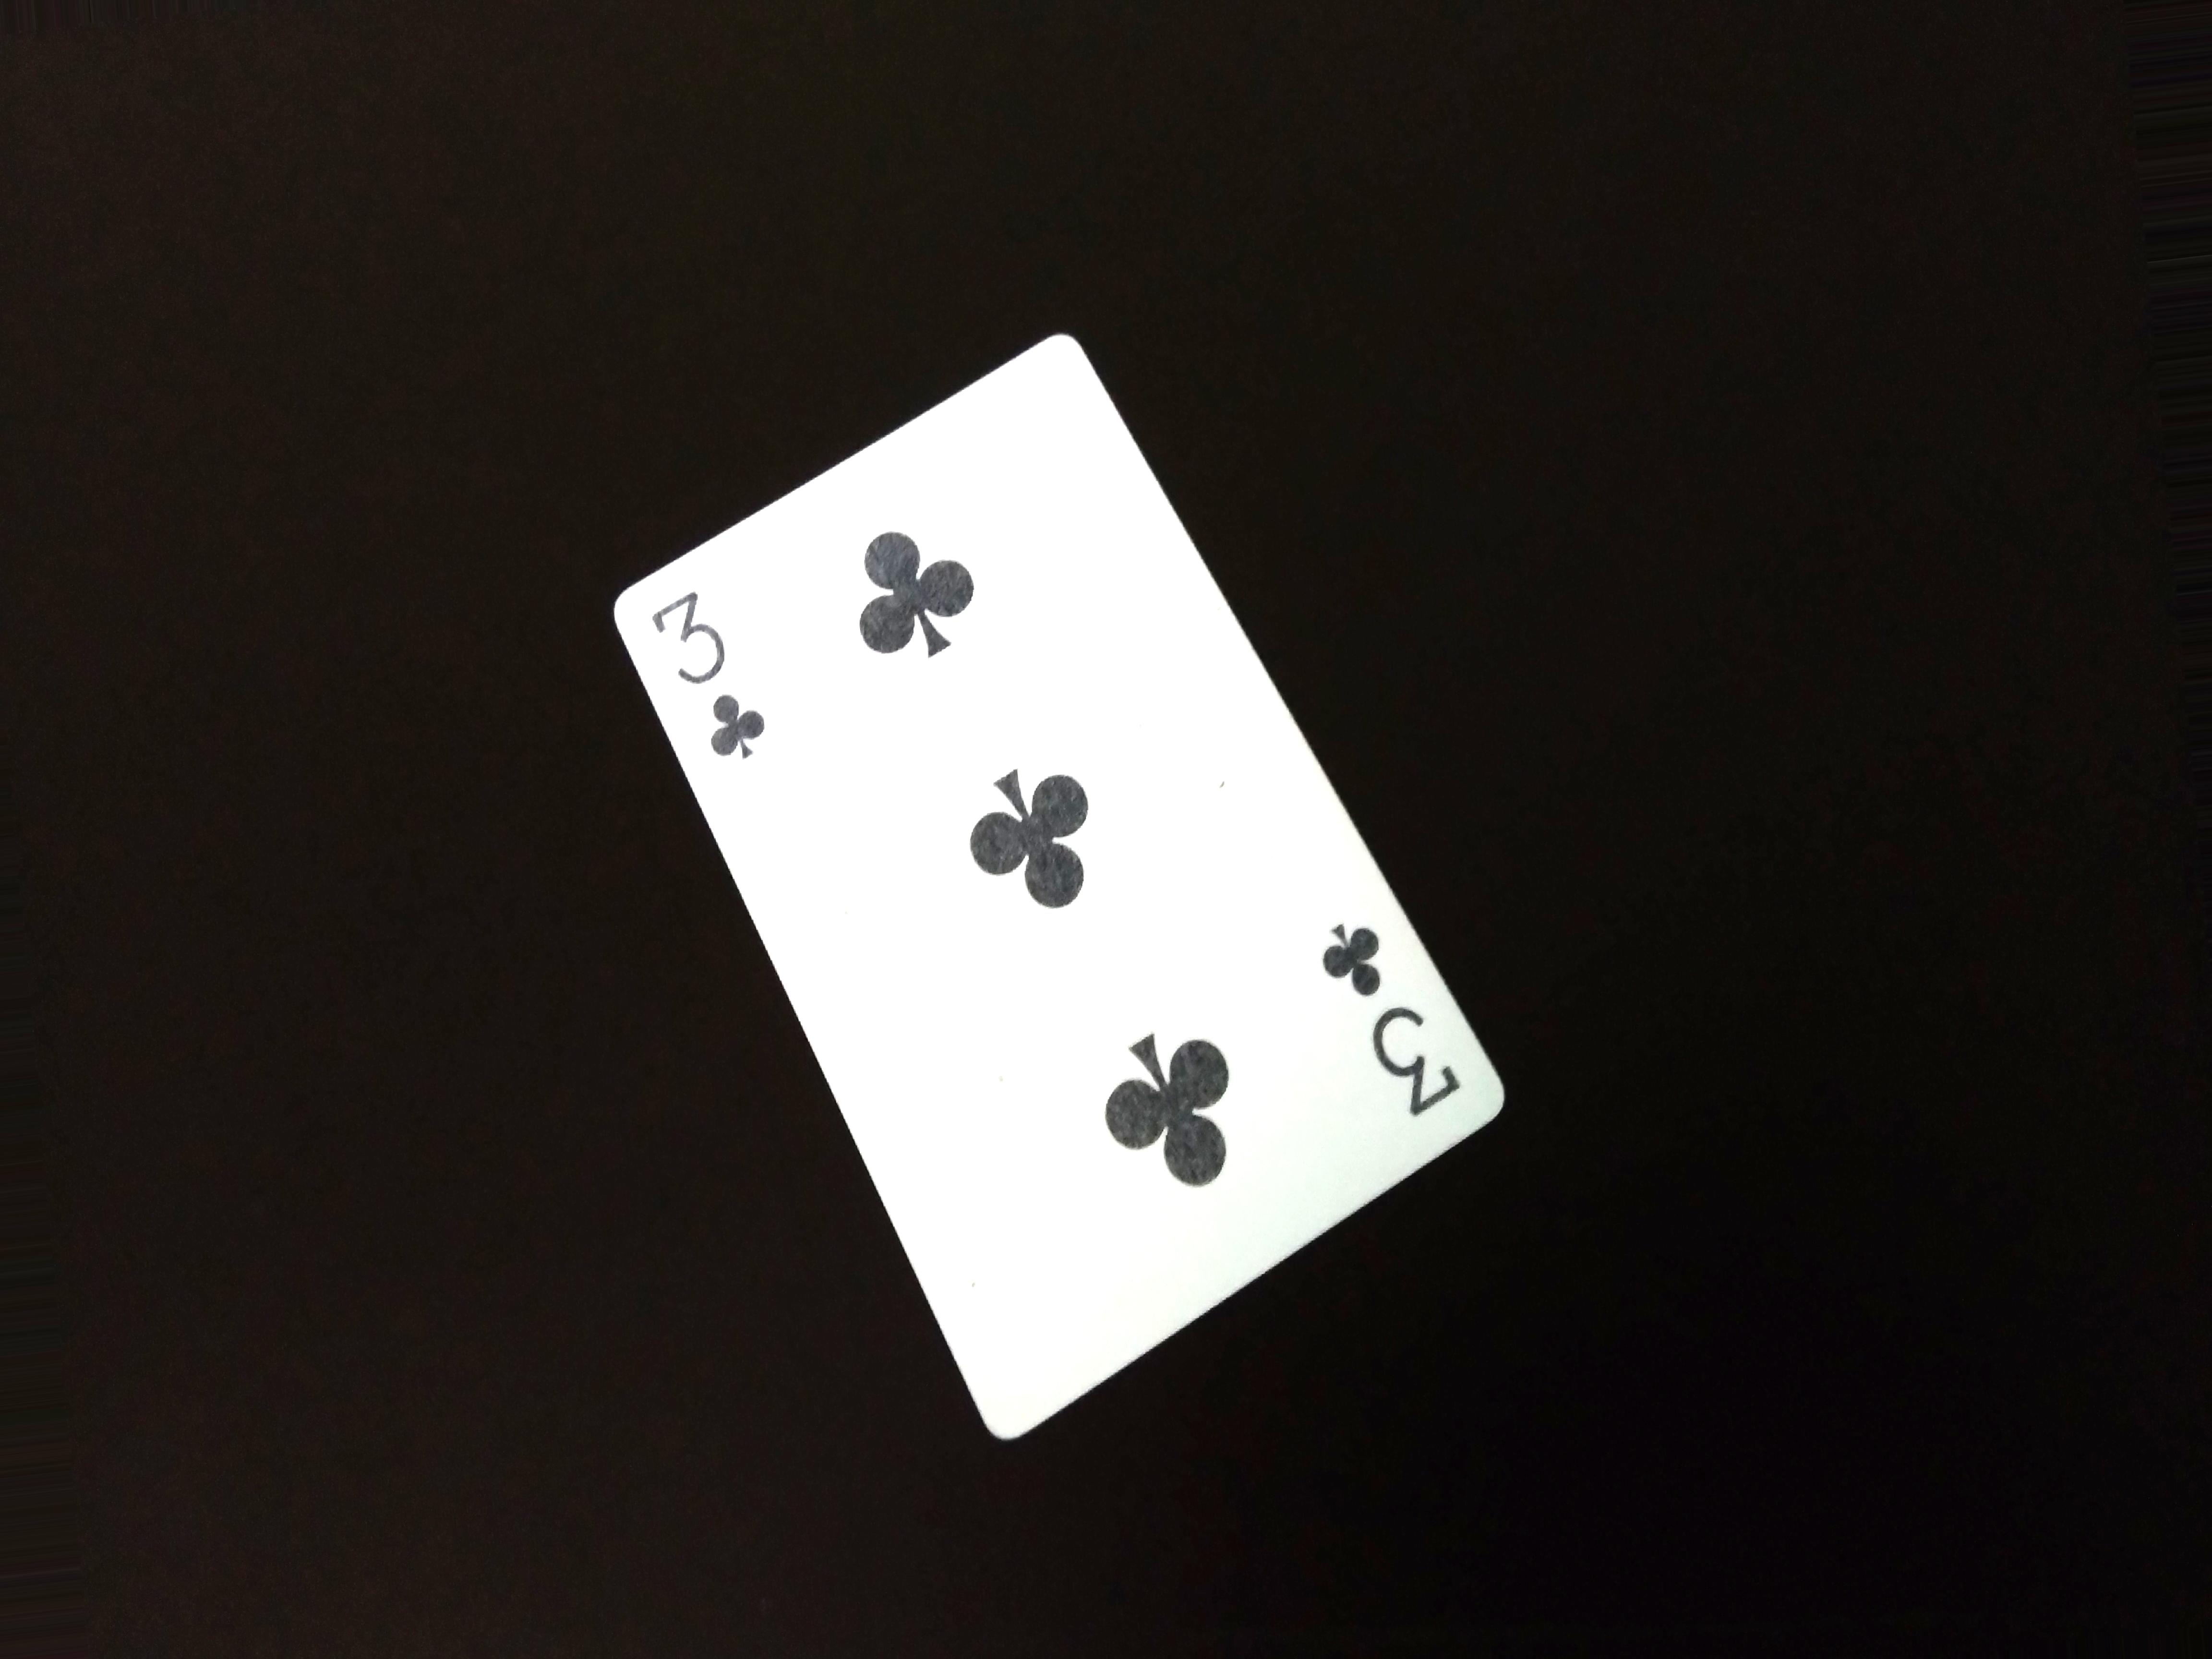3C: (637, 577, 787, 769)
